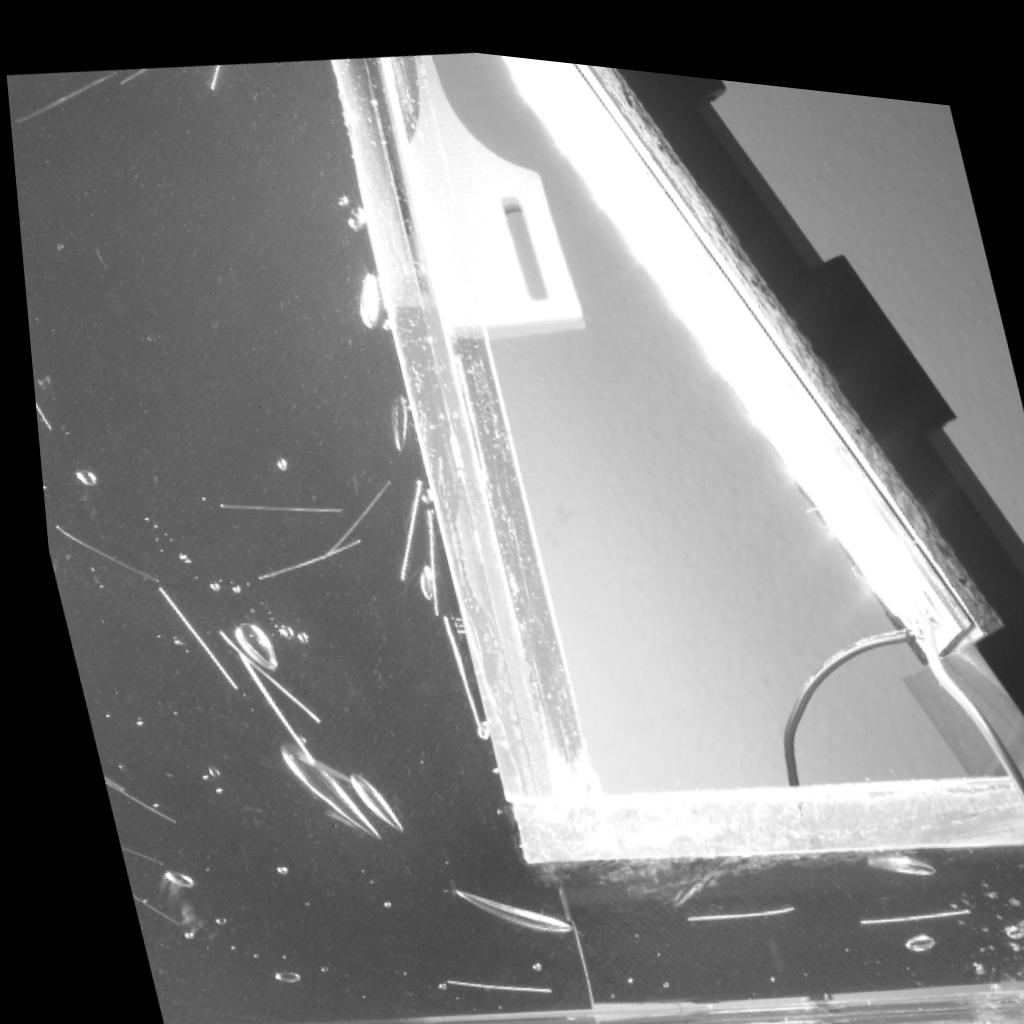Fiber: (203, 626, 312, 721), (223, 642, 303, 763), (144, 578, 224, 687), (8, 67, 117, 125), (41, 522, 147, 580), (428, 602, 473, 732), (311, 474, 382, 554), (249, 529, 351, 574), (386, 465, 413, 576), (92, 778, 161, 821), (842, 884, 952, 905), (672, 889, 779, 910), (428, 966, 535, 982), (117, 892, 162, 923), (207, 497, 332, 505), (418, 496, 427, 607), (106, 845, 146, 865), (119, 66, 147, 82), (205, 59, 218, 88), (28, 406, 41, 430)
